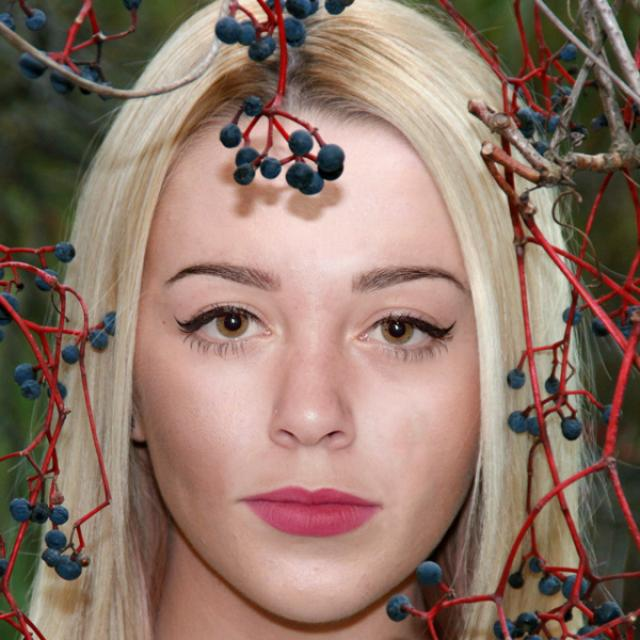face: (68, 6, 592, 617)
